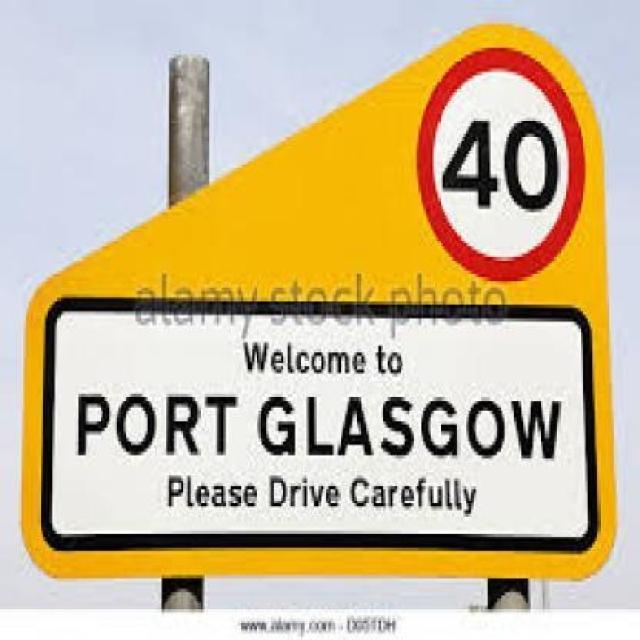forb_speed_over_40: (422, 50, 584, 276)
